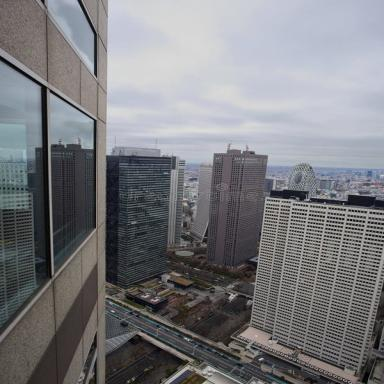glass_panel: (0, 57, 46, 333), (48, 93, 94, 271), (47, 1, 95, 76)
